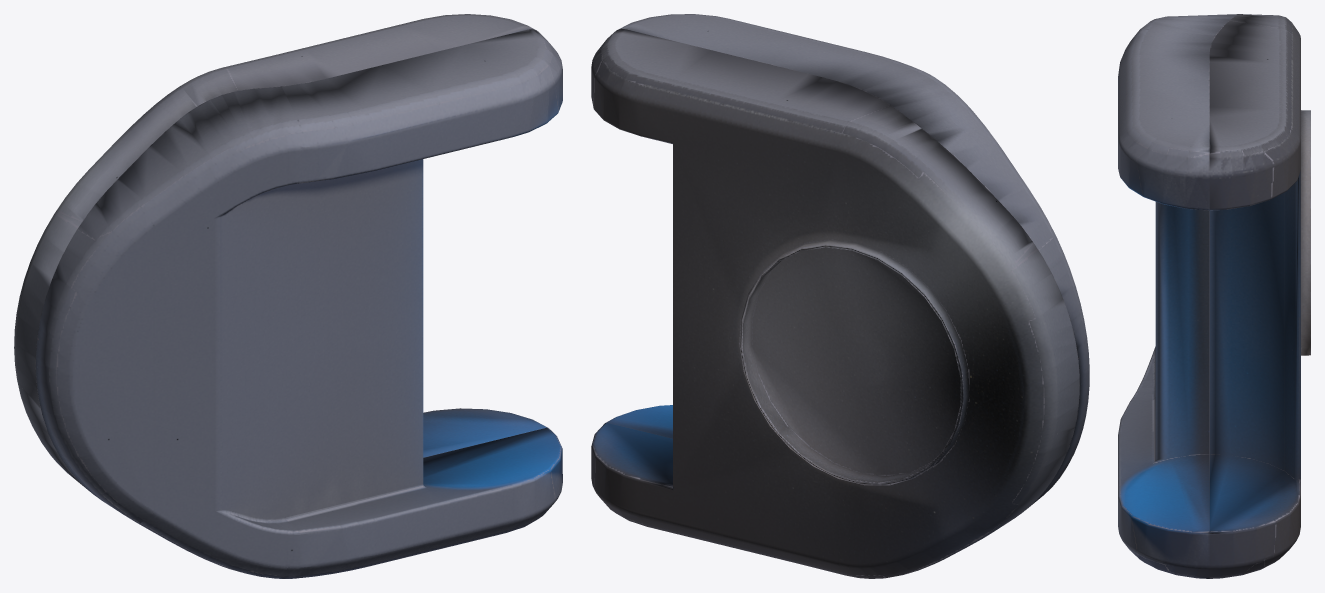
File: head_pan_link.obj
3 renders of one model, left to right at view 1: azimuth 30°, elevation 25°; view 2: azimuth 150°, elevation 25°; view 3: azimuth 270°, elevation 25°, orthographic. The views are drawn at different scales.
Bounding box in the file's own units: 0.3224 × 0.286 × 0.116.
Materials: 1 (1 with a texture image).
